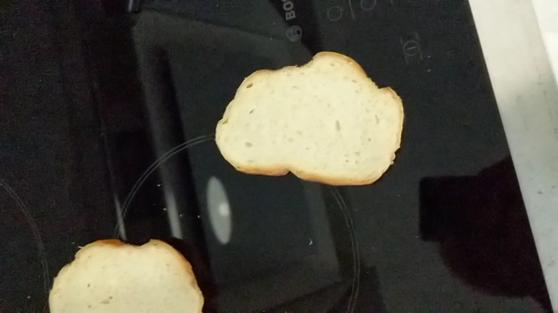white_bread: (214, 51, 404, 186), (45, 240, 208, 313)
